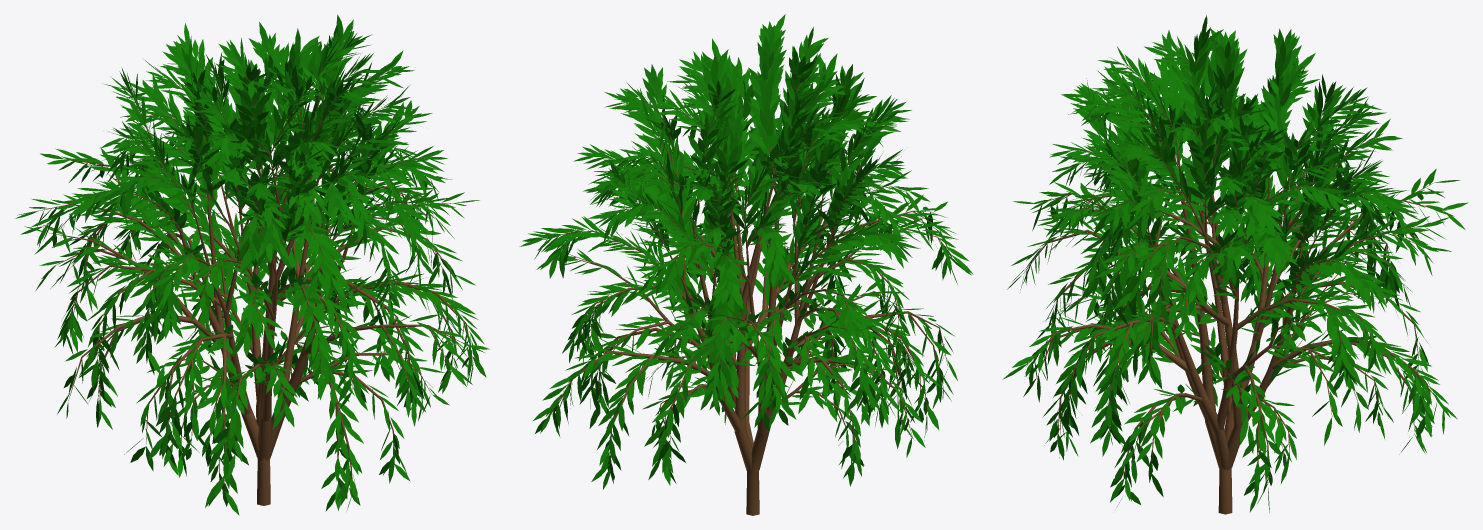
Rendered from Tree6.fbx.
3 views of the same model, side by side, from view 1: azimuth 30°, elevation 25°; view 2: azimuth 150°, elevation 25°; view 3: azimuth 270°, elevation 25° (orthographic). The views are drawn at different scales.
Visible parts, largest first — view 1: leaves, tree; view 2: leaves, tree; view 3: leaves, tree.
Boxes of the visible parts, box(x1,y1,x2,y2) form: leaves: box(15, 14, 489, 515); tree: box(38, 44, 473, 505); leaves: box(519, 14, 973, 489); tree: box(545, 74, 955, 515); leaves: box(1002, 15, 1468, 512); tree: box(1023, 56, 1443, 514).
Bounding box in the file's own units: 560 × 668 × 597.
